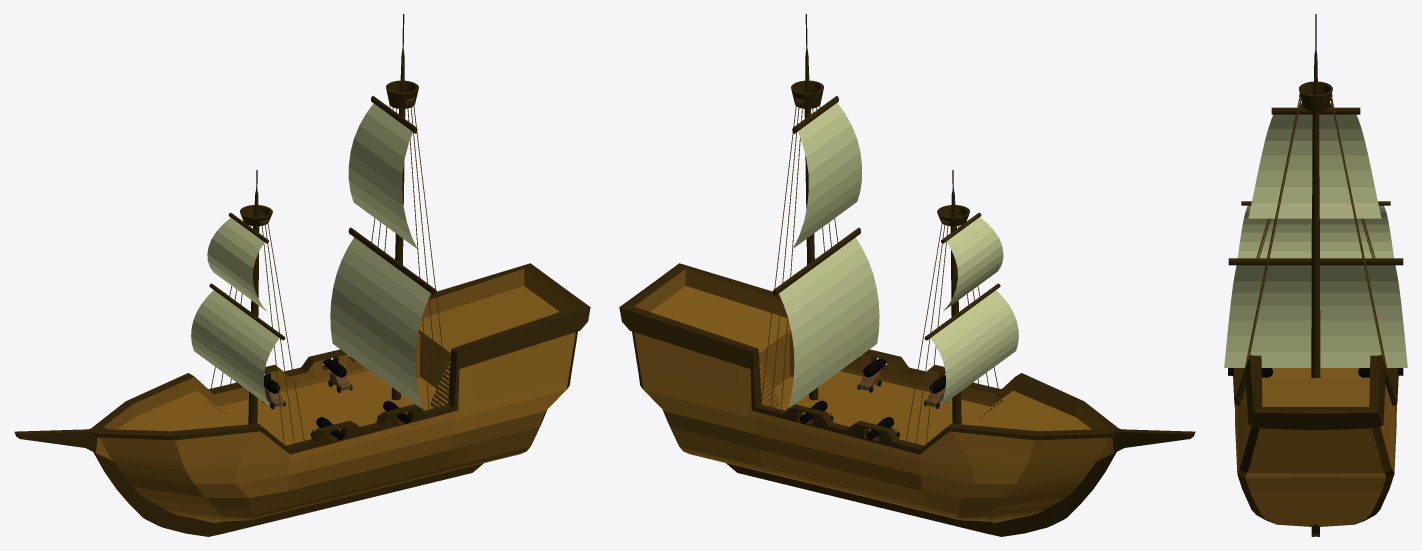
Rendered from PirateShip.fbx.
3 views of the same model, side by side, from view 1: azimuth 30°, elevation 25°; view 2: azimuth 150°, elevation 25°; view 3: azimuth 270°, elevation 25° (orthographic). The views are drawn at different scales.
Parts seen in each view (by area): view 1: TrupBroda, VeceJedro.001, ManjeJedro.001, VeceJedro, ManjeJedro, Jarbol.001, Jarbol, Cylinder.001; view 2: TrupBroda, VeceJedro.001, ManjeJedro.001, VeceJedro, ManjeJedro, Jarbol.001, Jarbol, Cylinder.001; view 3: TrupBroda, VeceJedro.001, ManjeJedro.001, VeceJedro, Jarbol.001, Cylinder.001, Cylinder.002, Uze5.001, Uze2.001, Uze6.001, Uze3.001, Uze4.001 (+1 smaller).
Part boxes in pixels (x1,y1,x2,y2): TrupBroda: [14, 263, 590, 536]; VeceJedro.001: [330, 237, 430, 408]; ManjeJedro.001: [348, 103, 417, 248]; VeceJedro: [191, 290, 279, 406]; ManjeJedro: [207, 218, 267, 311]; Jarbol.001: [386, 14, 418, 400]; Jarbol: [240, 170, 272, 424]; Cylinder.001: [348, 227, 436, 295]; TrupBroda: [619, 263, 1195, 536]; VeceJedro.001: [779, 237, 879, 408]; ManjeJedro.001: [793, 103, 861, 248]; VeceJedro: [930, 290, 1018, 406]; ManjeJedro: [943, 217, 1003, 310]; Jarbol.001: [791, 14, 823, 400]; Jarbol: [937, 170, 969, 424]; Cylinder.001: [773, 227, 860, 295]; TrupBroda: [1233, 355, 1398, 536]; VeceJedro.001: [1224, 265, 1407, 367]; ManjeJedro.001: [1248, 114, 1381, 218]; VeceJedro: [1237, 205, 1393, 258]; Jarbol.001: [1299, 14, 1332, 377]; Cylinder.001: [1228, 258, 1403, 265]; Cylinder.002: [1271, 107, 1360, 114]; Uze5.001: [1246, 98, 1299, 364]; Uze2.001: [1331, 97, 1385, 366]; Uze6.001: [1249, 99, 1300, 356]; Uze3.001: [1330, 99, 1383, 359]; Uze4.001: [1244, 99, 1299, 371].
Bounding box in the file's own units: 1655 × 1374 × 468.
